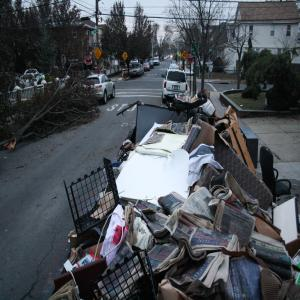Vehicle-registration-plate: (172, 86, 179, 93)
